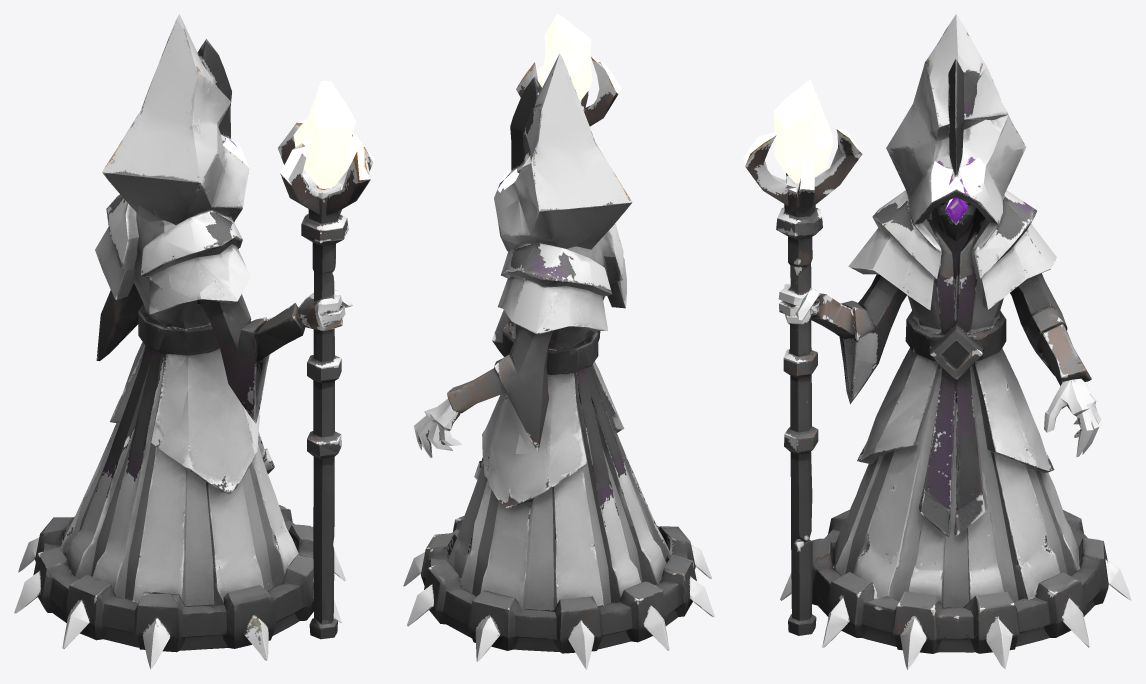
Rendered from cinder_priest.glb.
3 renders of one model, left to right at view 1: azimuth 30°, elevation 25°; view 2: azimuth 150°, elevation 25°; view 3: azimuth 270°, elevation 25°, orthographic. The views are drawn at different scales.
Parts seen in each view (by area): view 1: hem, staff, body, hood, arm_r, arm_l; view 2: hem, hood, body, arm_l, staff; view 3: hem, body, staff, hood, arm_l, arm_r.
Part boxes in pixels (box(x1,y1,x2,y2)): hem: box(14, 342, 345, 669); staff: box(264, 80, 374, 639); body: box(95, 194, 266, 386); hood: box(102, 14, 249, 219); arm_r: box(200, 255, 287, 392); arm_l: box(96, 290, 138, 361); hem: box(403, 336, 714, 669); hood: box(494, 53, 632, 247); body: box(492, 222, 626, 377); arm_l: box(414, 276, 569, 457); staff: box(516, 14, 621, 126); hem: box(780, 343, 1131, 669); body: box(847, 190, 1036, 381); staff: box(743, 79, 860, 635); hood: box(847, 14, 1026, 224); arm_l: box(1021, 223, 1101, 457); arm_r: box(823, 228, 877, 366).
Bounding box in the file's own units: 0.8878 × 1.75 × 1.05.
Materials: 3 (3 with a texture image).
